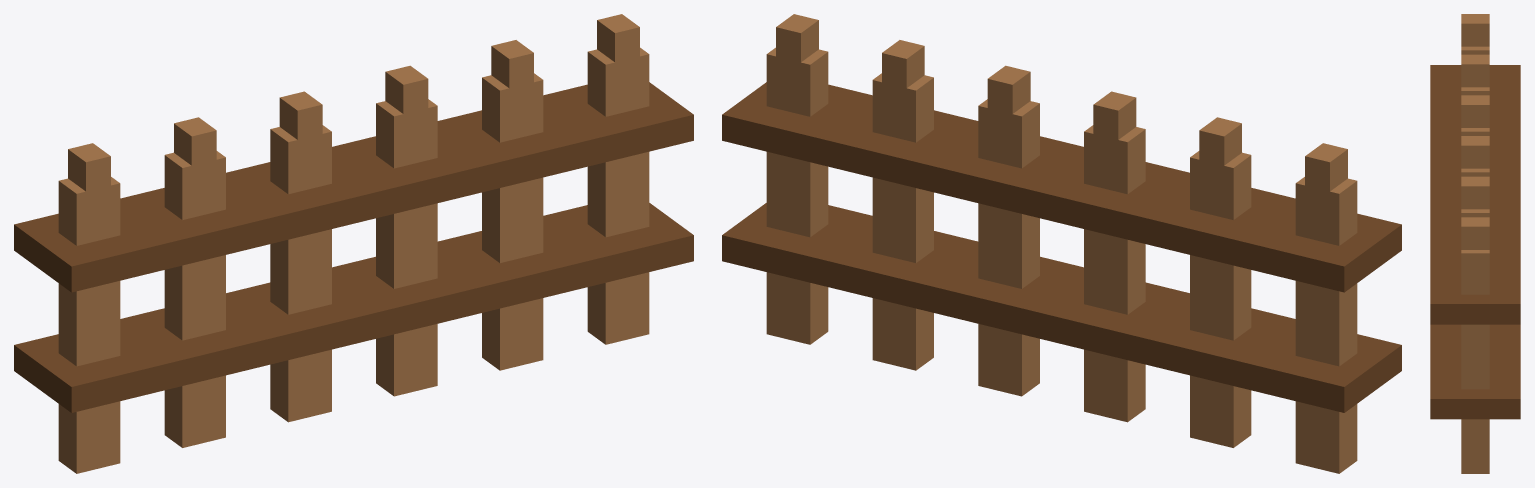
The model's file is ncb-picket-wood.glb.
3 views of the same model, side by side, from view 1: azimuth 30°, elevation 25°; view 2: azimuth 150°, elevation 25°; view 3: azimuth 270°, elevation 25° (orthographic). The views are drawn at different scales.
Visible parts, largest first — view 1: box-prop; view 2: box-prop; view 3: box-prop.
Boxes of the visible parts, <box> form: box-prop: <box>14,14,693,473</box>; box-prop: <box>722,14,1401,473</box>; box-prop: <box>1430,14,1520,473</box>.
Size of the model in its own units: 2 by 0.95 by 0.32.
